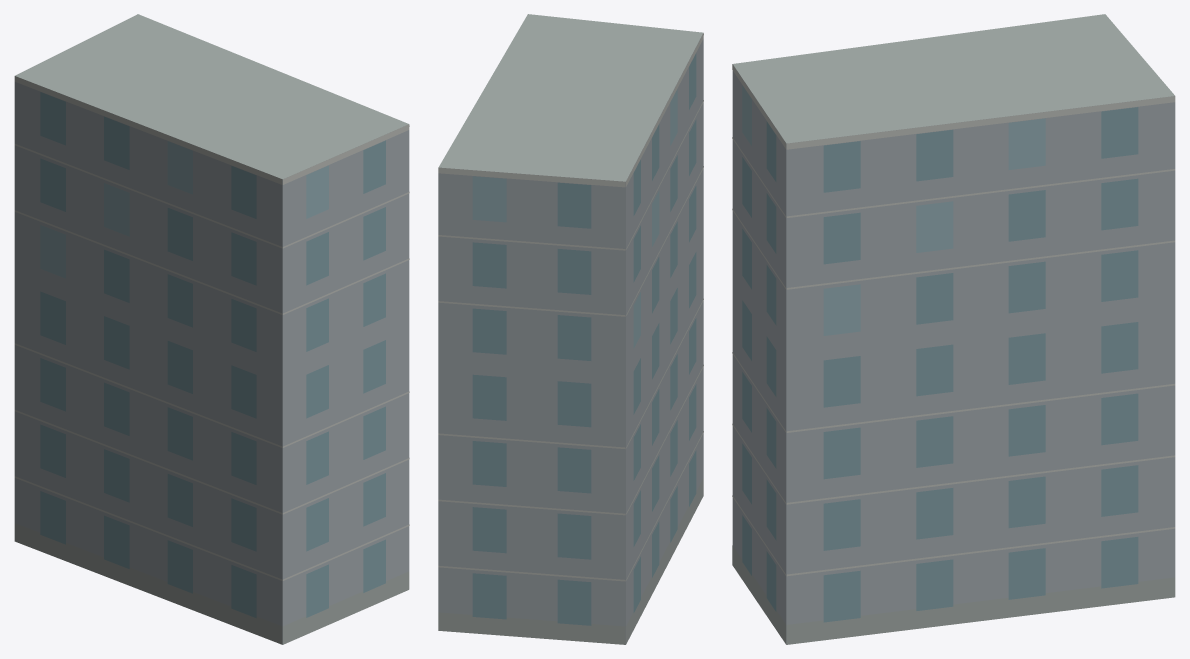
The model's file is survey-upis-32568671.glb.
3 views of the same model, side by side, from view 1: azimuth 30°, elevation 25°; view 2: azimuth 150°, elevation 25°; view 3: azimuth 270°, elevation 25° (orthographic). The views are drawn at different scales.
Parts seen in each view (by area): view 1: survey-upis-32568671.tmp; view 2: survey-upis-32568671.tmp; view 3: survey-upis-32568671.tmp.
Boxes of the visible parts, x1=… form: survey-upis-32568671.tmp: x1=14, y1=14, x2=409, y2=644; survey-upis-32568671.tmp: x1=438, y1=14, x2=703, y2=644; survey-upis-32568671.tmp: x1=732, y1=14, x2=1175, y2=644.
Bounding box in the file's own units: 10.89 × 19.6 × 15.71.
